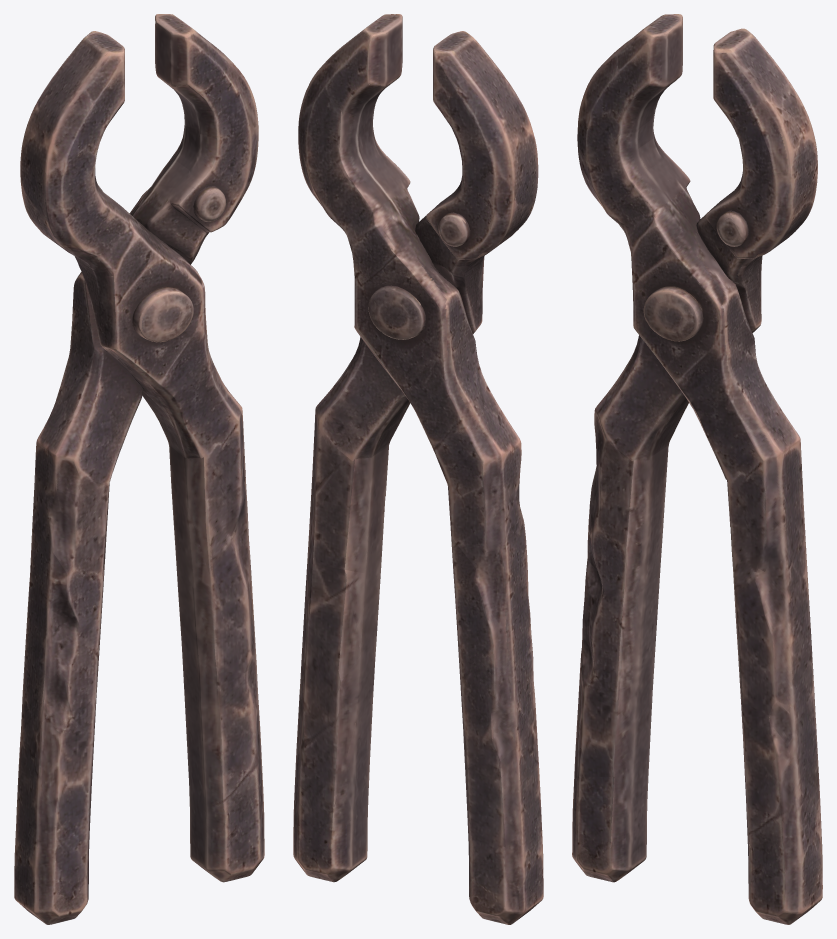
Rendered from tongs.glb.
The picture shows the model from 3 angles, left to right: view 1: azimuth 30°, elevation 25°; view 2: azimuth 150°, elevation 25°; view 3: azimuth 330°, elevation 25°; orthographic projection.
Parts seen in each view (by area): view 1: Mesh_0; view 2: Mesh_0; view 3: Mesh_0.
Part boxes in pixels (left/top/right/bottom): Mesh_0: left=14, top=14, right=264, bottom=924; Mesh_0: left=293, top=14, right=543, bottom=924; Mesh_0: left=572, top=14, right=822, bottom=924.
Size of the model in its own units: 0.5336 by 1.9 by 0.2135.
Materials: 1 (1 with a texture image).
